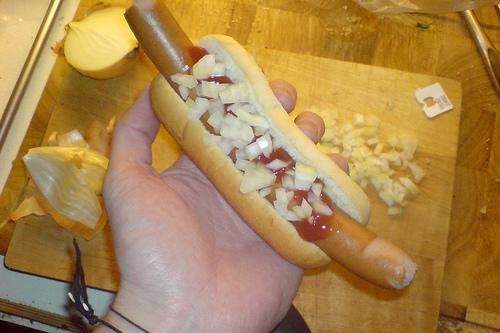onion: (50, 2, 145, 80), (240, 160, 276, 194), (228, 118, 254, 147), (294, 162, 320, 190), (190, 54, 216, 80), (208, 98, 226, 134), (186, 98, 212, 122), (399, 135, 419, 160), (399, 177, 419, 199), (243, 142, 264, 162), (231, 81, 250, 103), (244, 112, 270, 128), (195, 81, 218, 98), (170, 74, 197, 88), (218, 136, 236, 156), (185, 97, 206, 114), (266, 158, 292, 171), (208, 110, 224, 130), (282, 174, 300, 191), (262, 129, 272, 159), (312, 202, 333, 216), (318, 127, 336, 143), (256, 134, 272, 152), (379, 190, 394, 208), (275, 187, 289, 206), (344, 128, 364, 141), (222, 112, 237, 127), (210, 62, 225, 77), (274, 200, 288, 216), (363, 115, 379, 128), (236, 110, 253, 122), (217, 84, 234, 96), (282, 210, 302, 220), (235, 158, 249, 172), (292, 206, 308, 218), (364, 155, 381, 166), (376, 172, 390, 184), (386, 136, 400, 148), (350, 150, 364, 162), (344, 119, 355, 134), (384, 178, 393, 196), (272, 136, 282, 152), (373, 142, 384, 156), (363, 127, 377, 138), (350, 172, 365, 182), (260, 186, 272, 198), (312, 182, 322, 196), (254, 126, 268, 136), (405, 162, 422, 170), (341, 148, 352, 160), (367, 136, 380, 146), (390, 150, 400, 162), (346, 158, 354, 171), (354, 162, 364, 172), (332, 136, 342, 145), (348, 138, 358, 147), (326, 112, 338, 119), (286, 190, 294, 200), (338, 127, 345, 138), (364, 149, 373, 157), (393, 182, 402, 189), (378, 153, 388, 159), (322, 143, 334, 147), (334, 124, 340, 132), (388, 147, 394, 154), (302, 107, 310, 112), (360, 136, 365, 144)
